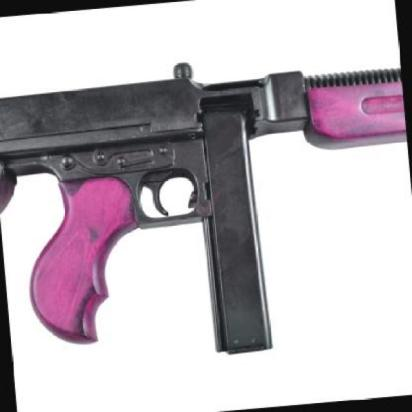Gun: (4, 32, 412, 375)
